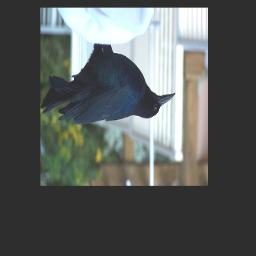Crow: (42, 44, 176, 125)
